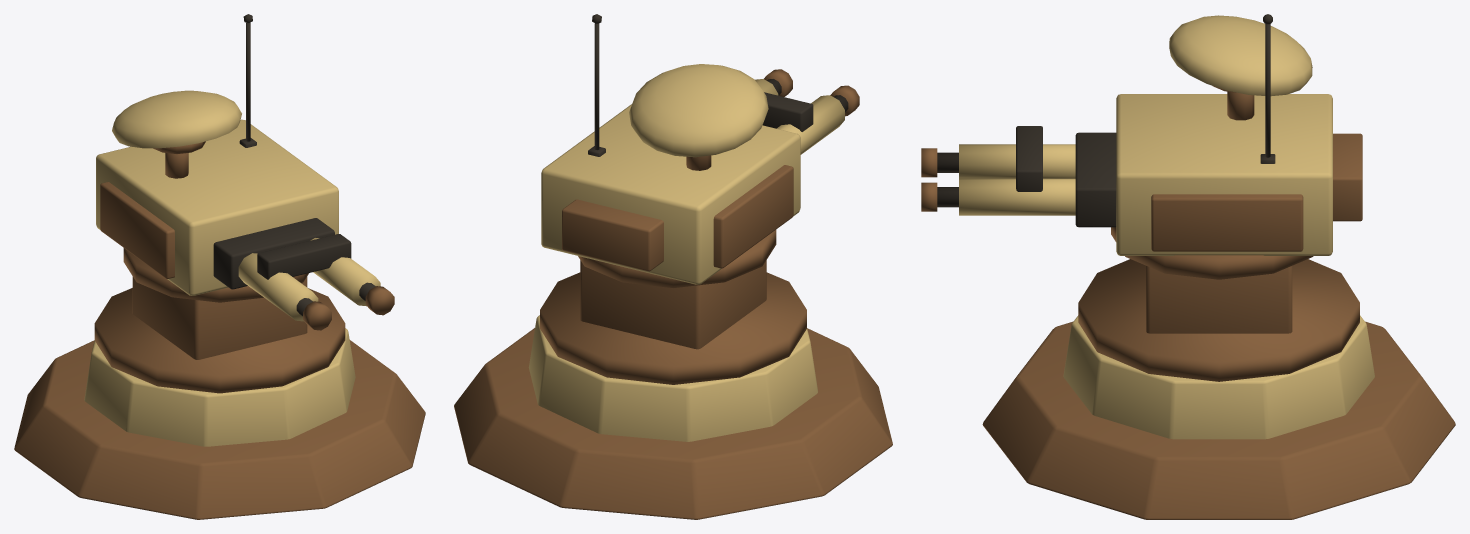
The model's file is WheatSentry.glb.
The picture shows the model from 3 angles, left to right: view 1: azimuth 30°, elevation 25°; view 2: azimuth 150°, elevation 25°; view 3: azimuth 270°, elevation 25°; orthographic projection. The views are drawn at different scales.
Visible parts, largest first — view 1: BaseSkirt, TurretHull, BaseCore, BaseRing, FixedColumn, RadarDish, HullCheekL, BarrelBlock, BarrelBridge, BarrelShroud_L, YawRing, BarrelShroud_R (+4 smaller); view 2: BaseSkirt, TurretHull, BaseCore, BaseRing, RadarDish, FixedColumn, RearCounterweight, HullCheekL, YawRing, BarrelShroud_L, BarrelBridge, AntennaRod; view 3: BaseSkirt, TurretHull, BaseCore, BaseRing, HullCheekR, FixedColumn, RadarDish, BarrelShroud_R, BarrelBlock, YawRing, BarrelShroud_L, RearCounterweight (+3 smaller).
Part boxes in pixels (x1,y1,x2,y2): BaseSkirt: [14, 340, 425, 519]; TurretHull: [96, 119, 338, 295]; BaseCore: [84, 328, 355, 446]; BaseRing: [94, 288, 345, 393]; FixedColumn: [132, 276, 307, 359]; RadarDish: [112, 90, 241, 148]; HullCheekL: [100, 182, 174, 278]; BarrelBlock: [213, 218, 334, 289]; BarrelBridge: [257, 234, 351, 279]; BarrelShroud_L: [238, 253, 318, 321]; YawRing: [123, 248, 308, 302]; BarrelShroud_R: [310, 238, 380, 306]; BaseSkirt: [454, 328, 892, 519]; TurretHull: [541, 104, 800, 284]; BaseCore: [528, 315, 818, 441]; BaseRing: [540, 272, 806, 384]; RadarDish: [629, 64, 768, 157]; FixedColumn: [580, 260, 766, 349]; RearCounterweight: [562, 199, 663, 271]; HullCheekL: [713, 165, 793, 268]; YawRing: [578, 230, 776, 287]; BarrelShroud_L: [777, 95, 844, 154]; BarrelBridge: [762, 92, 813, 131]; AntennaRod: [594, 23, 599, 149]; BaseSkirt: [982, 321, 1455, 519]; TurretHull: [1116, 94, 1332, 255]; BaseCore: [1063, 315, 1374, 439]; BaseRing: [1078, 259, 1359, 381]; HullCheekR: [1151, 194, 1303, 251]; FixedColumn: [1146, 266, 1292, 333]; RadarDish: [1169, 15, 1312, 96]; BarrelShroud_R: [959, 178, 1075, 215]; BarrelBlock: [1075, 132, 1116, 227]; YawRing: [1111, 227, 1313, 279]; BarrelShroud_L: [959, 144, 1075, 178]; RearCounterweight: [1333, 133, 1362, 221].
Size of the model in its own units: 1.66 by 1.79 by 1.97.
